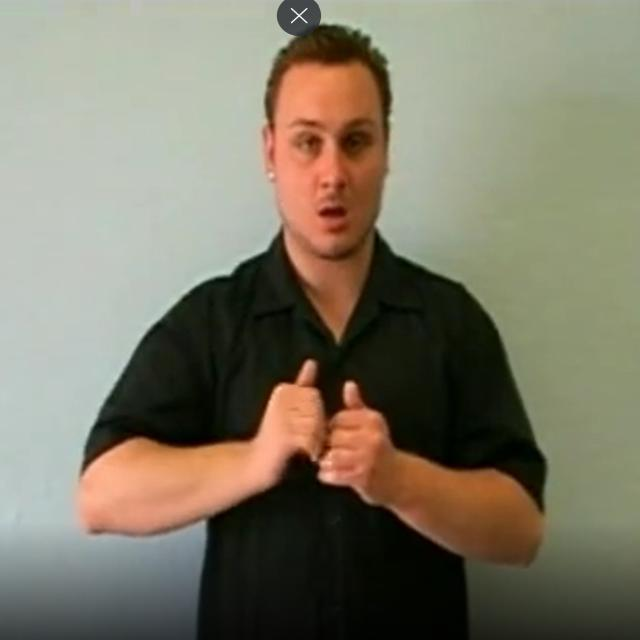how: (255, 359, 393, 506)
